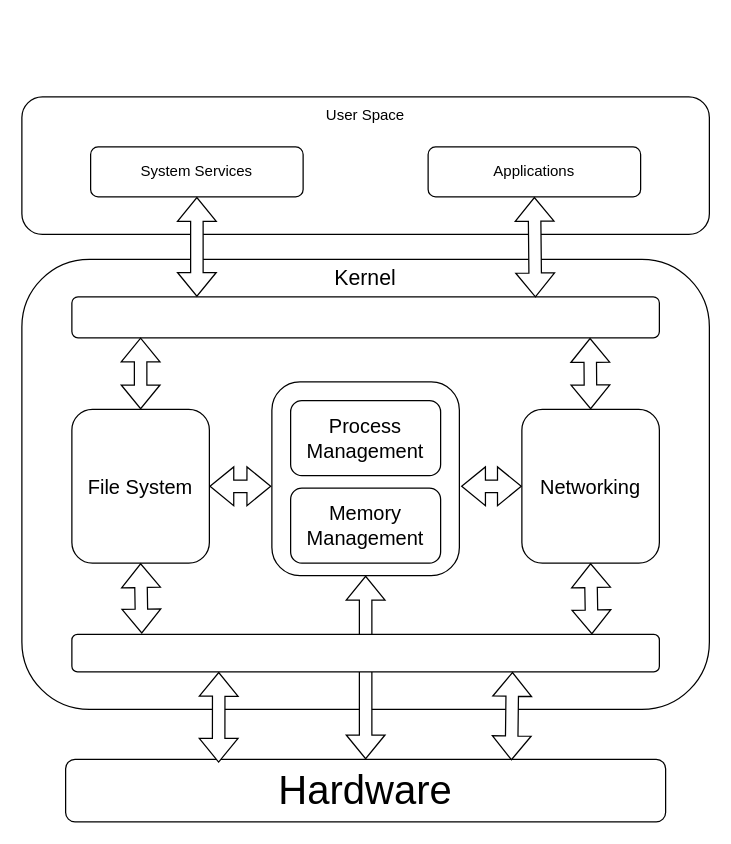
Some shapes in this 731 by 844 pixel diagram are drawn without their labels. Each missing label, with the centre of its shape:
"Device Drivers" goes at pixel 365 652.
"System Call Interface" goes at pixel 365 317.
